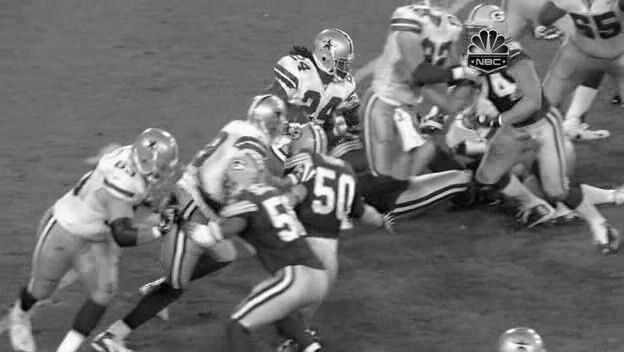person: (319, 30, 355, 76), (318, 30, 354, 76), (320, 30, 356, 76), (319, 29, 355, 75), (319, 31, 355, 77)
target_negative: (395, 89, 530, 298), (108, 227, 304, 322), (139, 31, 200, 99), (409, 331, 543, 343), (555, 153, 565, 276), (541, 308, 542, 320)
